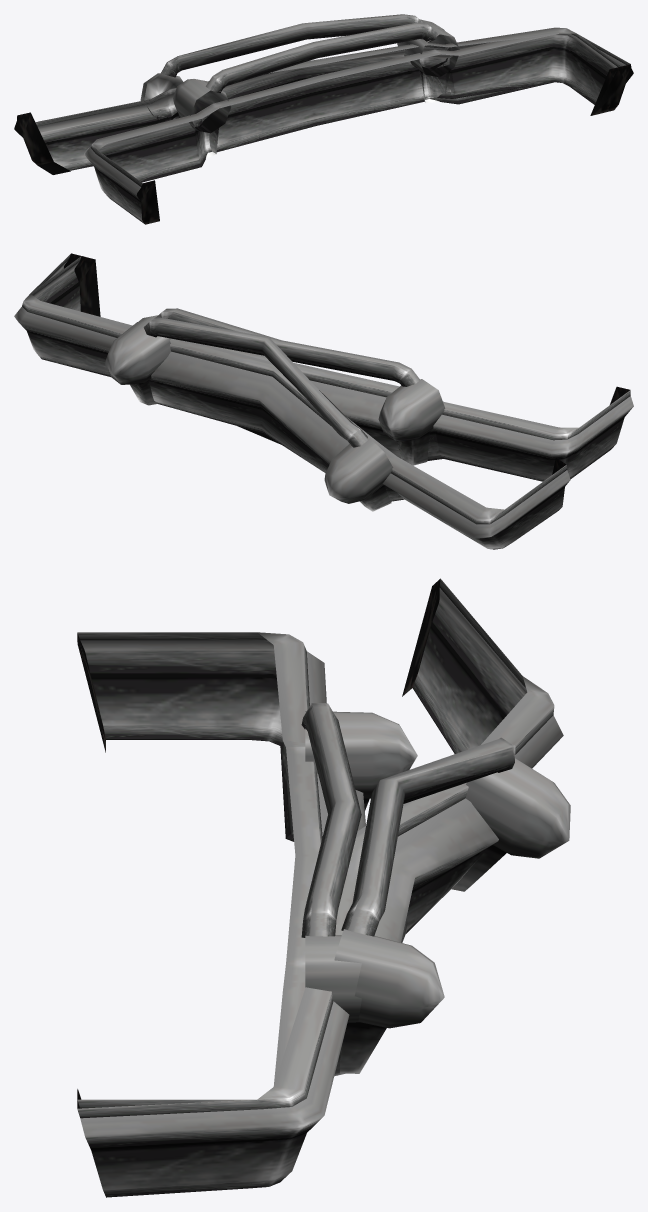
File: fbmp_lr_sv1.glb
3 renders of one model, top to bottom at view 1: azimuth 30°, elevation 25°; view 2: azimuth 150°, elevation 25°; view 3: azimuth 270°, elevation 25°, orthographic. The views are drawn at different scales.
Parts seen in each view (by area): view 1: fbmp_lr_sv1, fbmp_lr_sv1_dam; view 2: fbmp_lr_sv1_dam, fbmp_lr_sv1; view 3: fbmp_lr_sv1_dam, fbmp_lr_sv1.
Boxes of the visible parts, bbox=[...] form: fbmp_lr_sv1: bbox=[84, 22, 622, 224]; fbmp_lr_sv1_dam: bbox=[14, 14, 633, 174]; fbmp_lr_sv1_dam: bbox=[14, 253, 570, 549]; fbmp_lr_sv1: bbox=[30, 256, 633, 481]; fbmp_lr_sv1_dam: bbox=[77, 578, 570, 1197]; fbmp_lr_sv1: bbox=[77, 632, 417, 1108].
Size of the model in its own units: 2.65 by 0.5317 by 1.06.
Materials: 3 (2 with a texture image).
